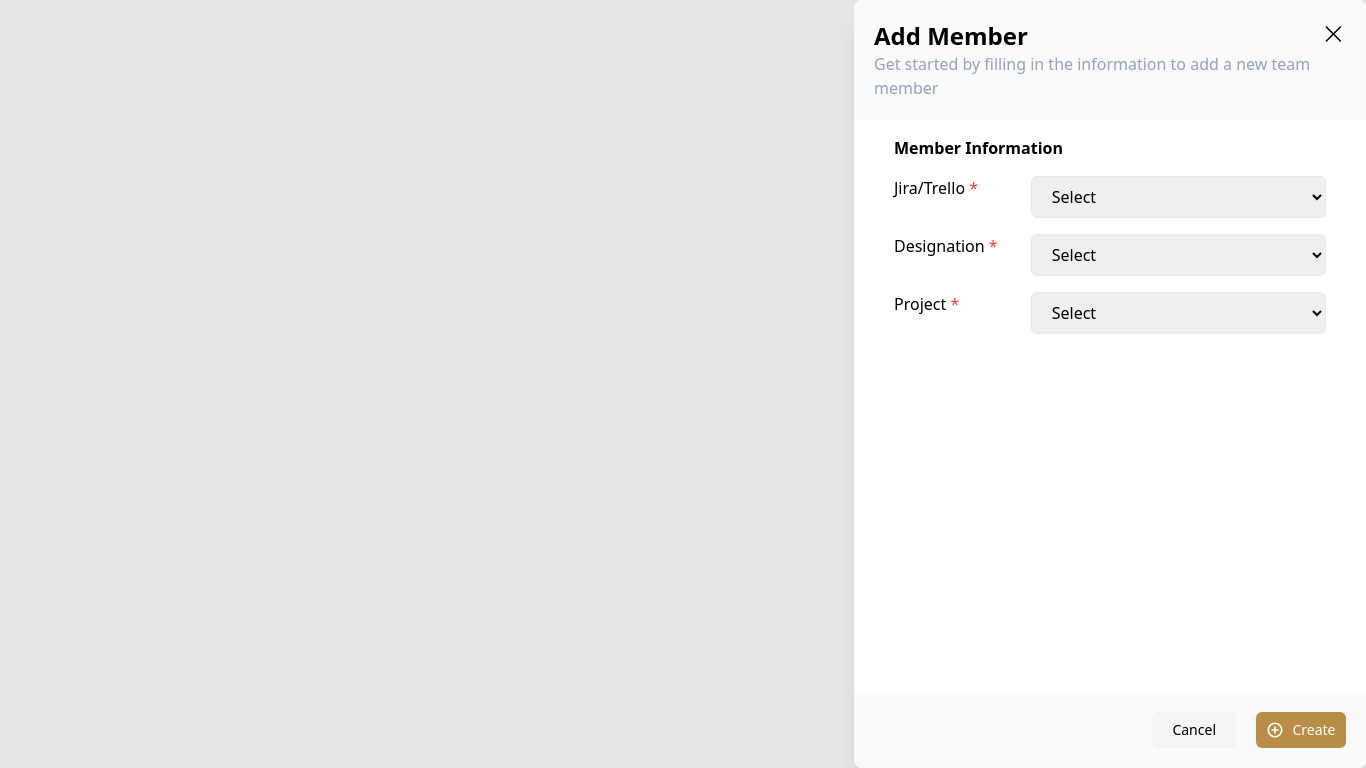
Test: AddMemberDrawer › should display validation errors if required fields are empty on submit
The image size is (1366, 768).
What coordinates should you click on to do the following:
click the button "Create"
I would click on:
 (1301, 730)
Its box is top-left (1256, 712), bottom-right (1346, 748).
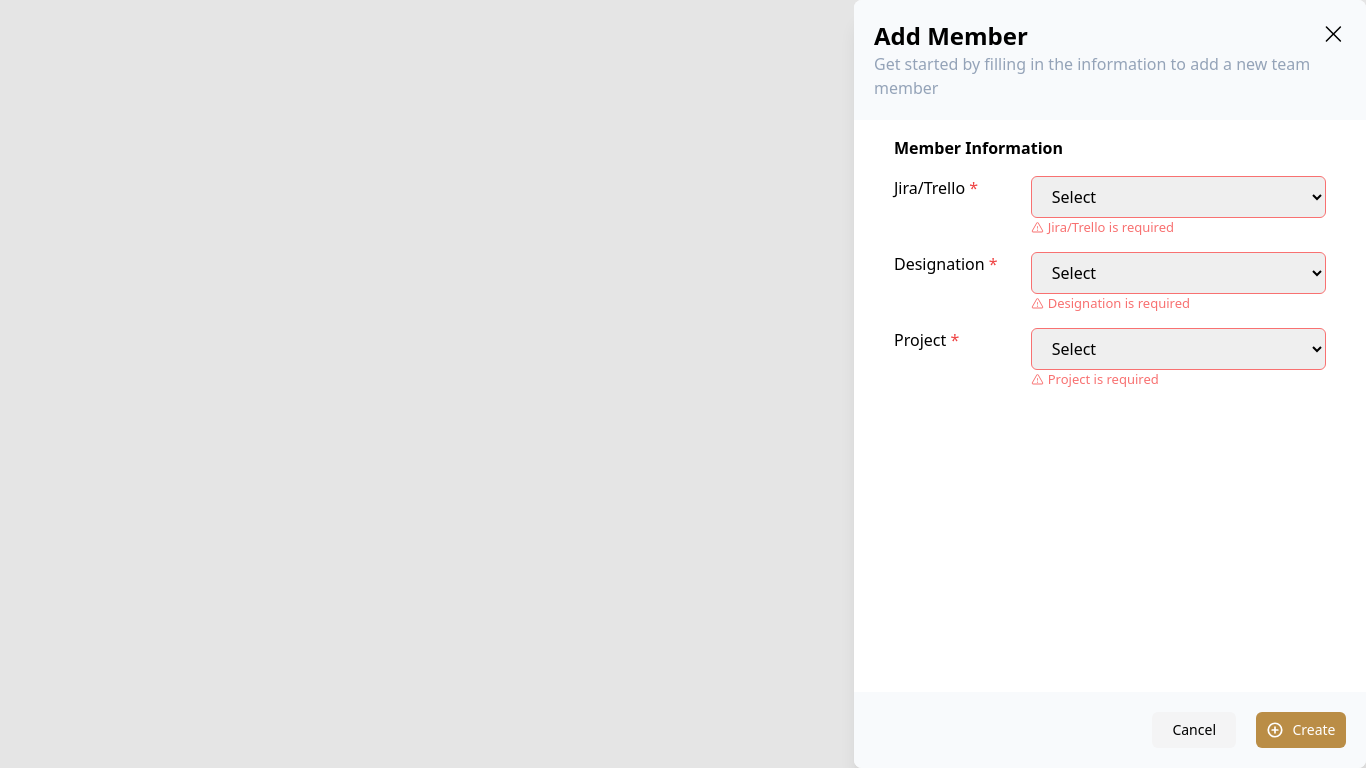
expect the text "Jira/Trello is required" is shown: met, box top-left (1031, 218), bottom-right (1174, 236)
expect the text "Designation is required" is shown: met, box top-left (1031, 294), bottom-right (1190, 312)
expect the text "Project is required" is shown: met, box top-left (1031, 370), bottom-right (1159, 388)
